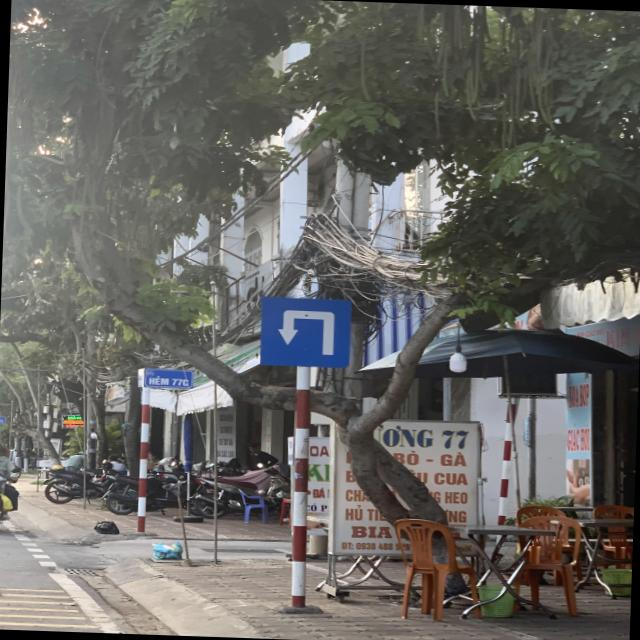Den_Giao_Thong: (257, 294, 352, 367)
